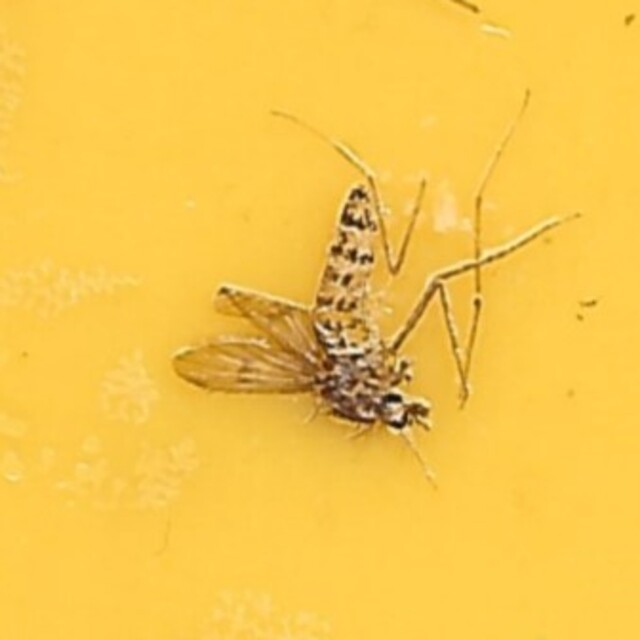Nematocera: (190, 192, 450, 448)
